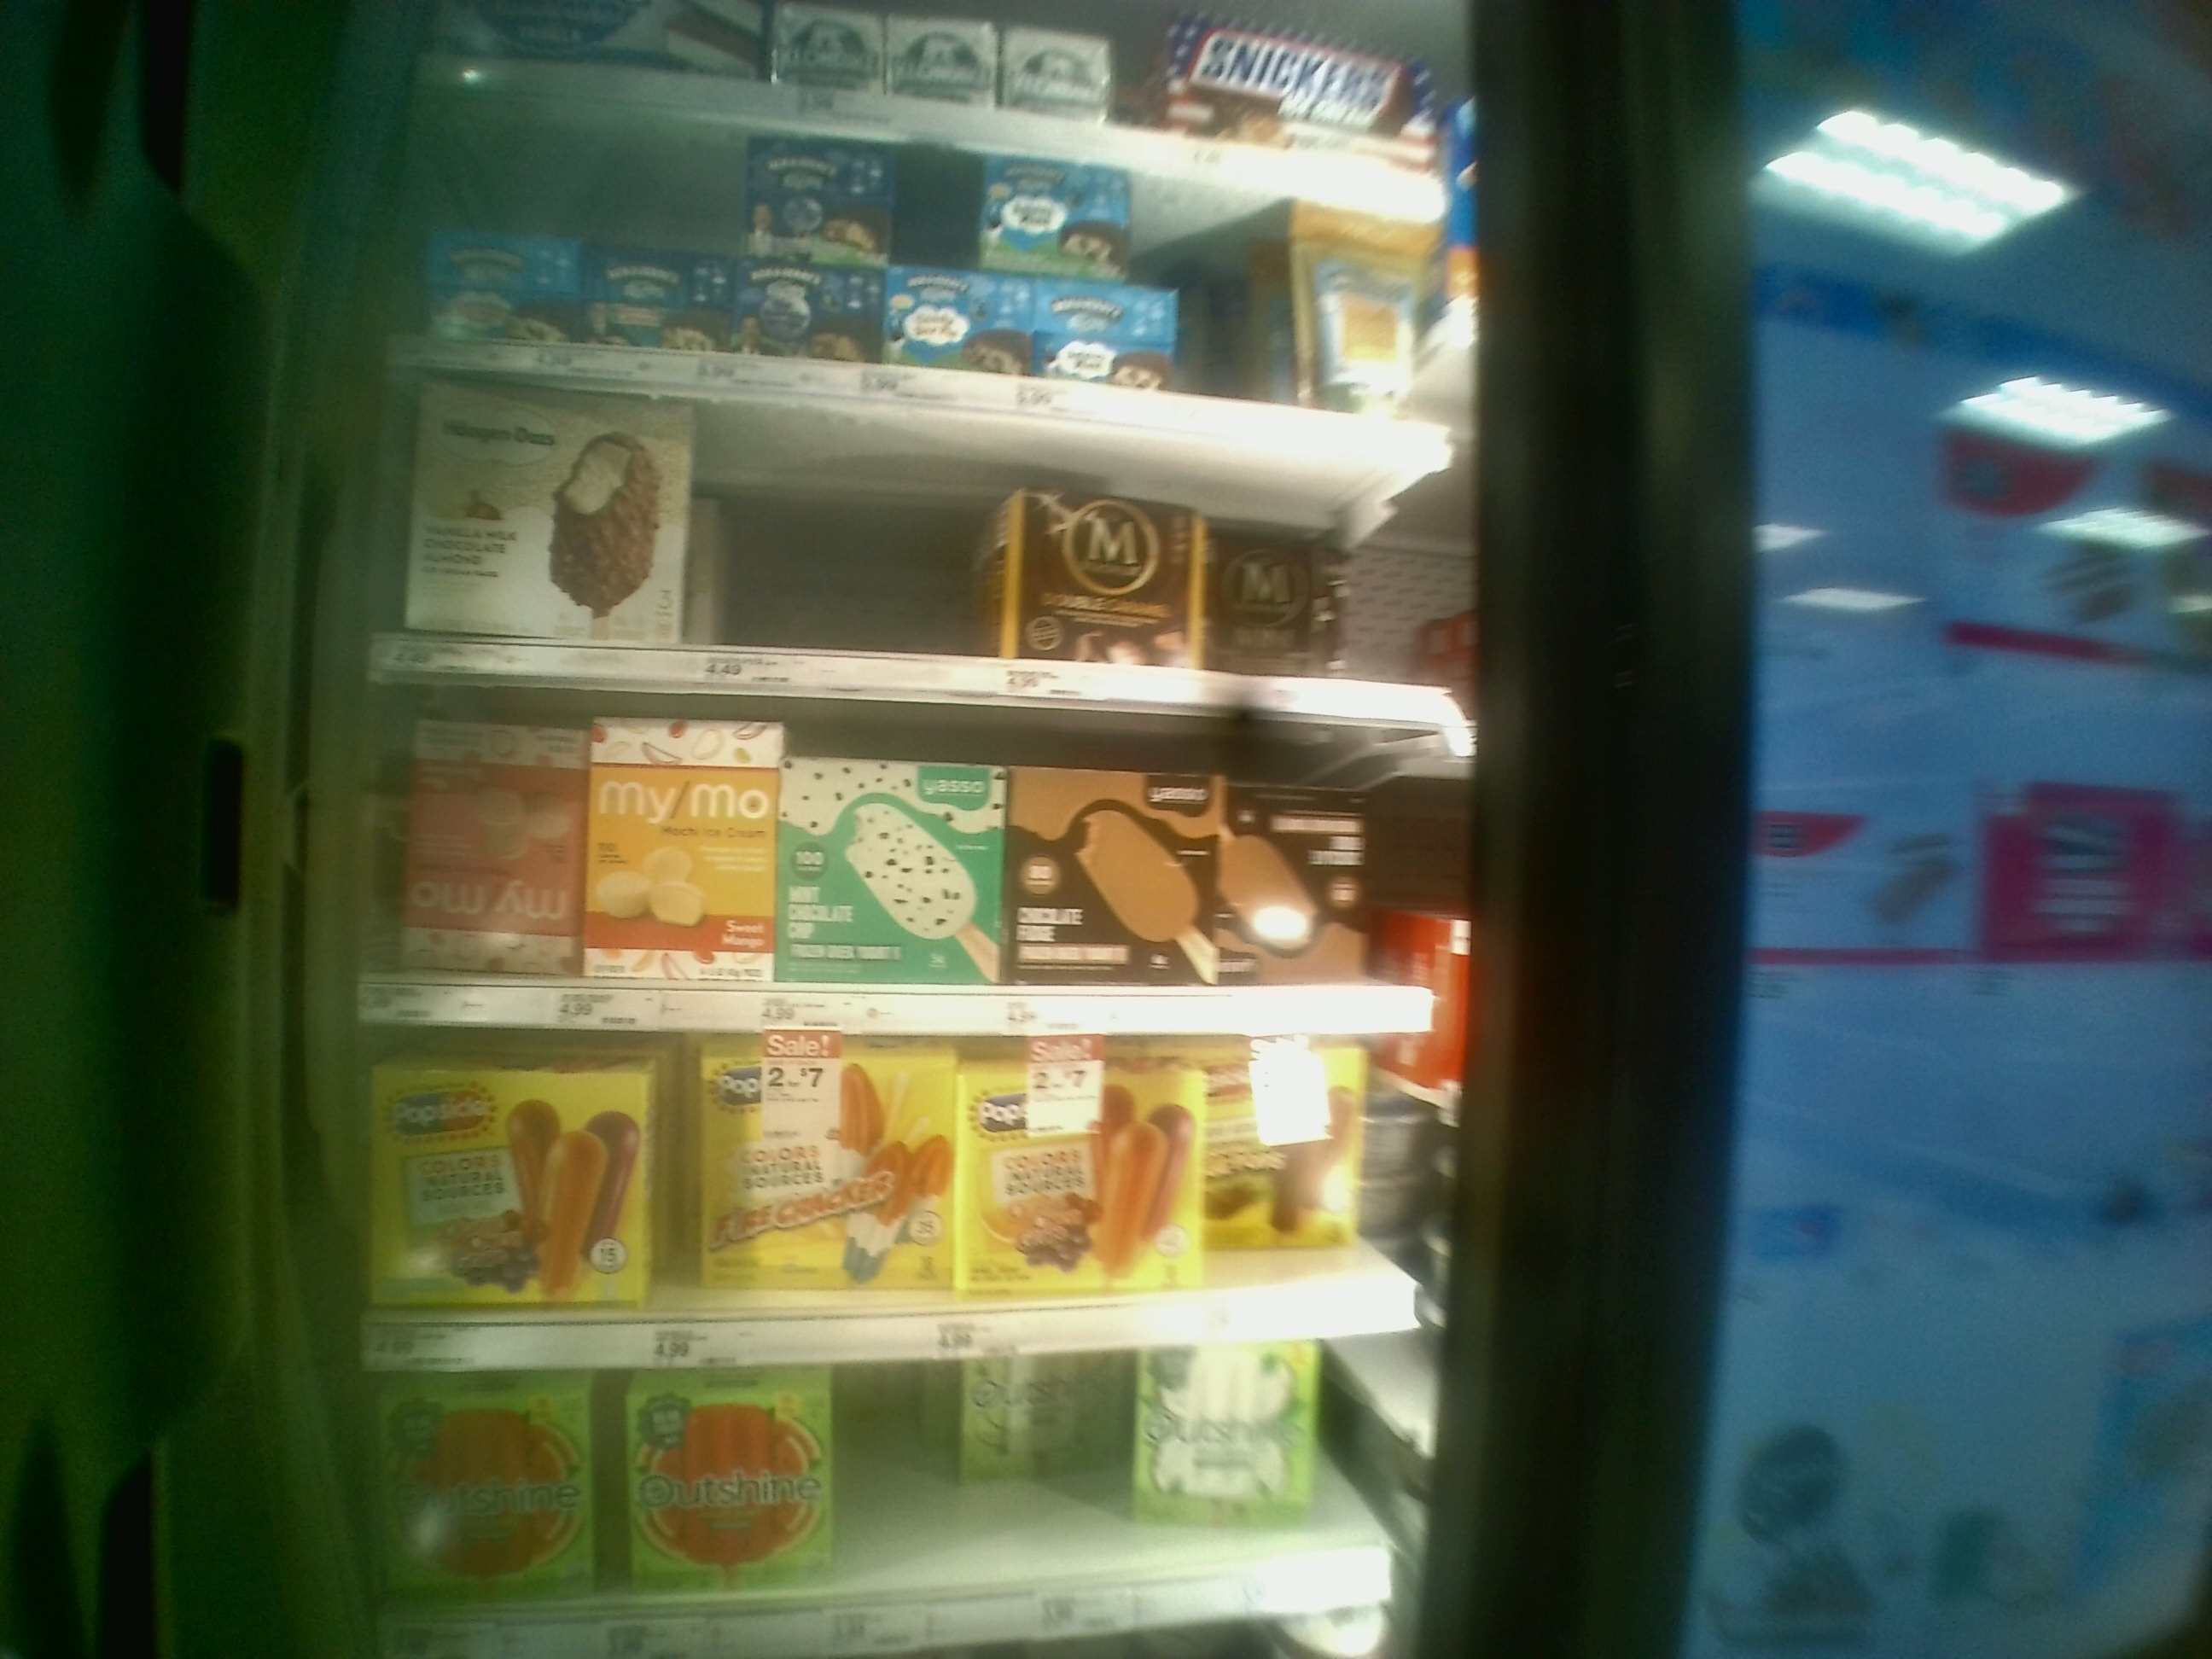shelf: (368, 687, 1444, 1037), (361, 1051, 1447, 1368), (376, 382, 1453, 690)
